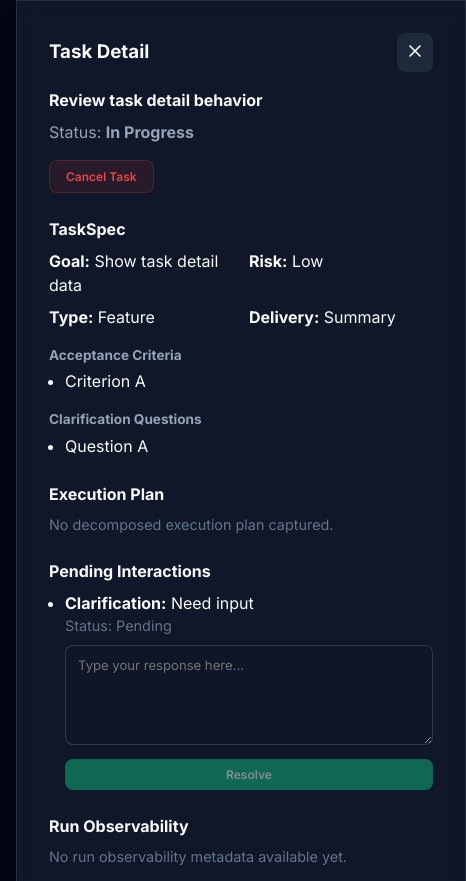
TaskDetailPanel › shows interaction resolve errors and recovers loading state
Type "Test answer" into the text box with placeholder "Type your response here...".
click(249, 695); type("Test answer")  # box [65,645,433,745]
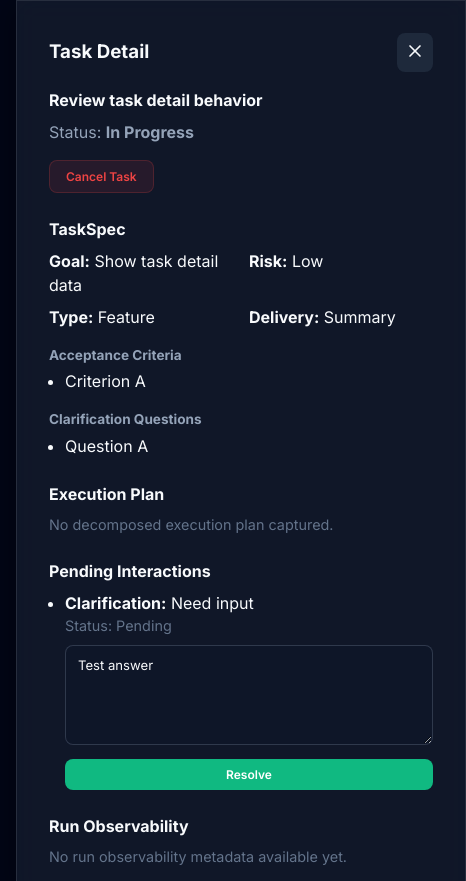
Click the button "Resolve".
click(249, 774)  # box [65,759,433,790]
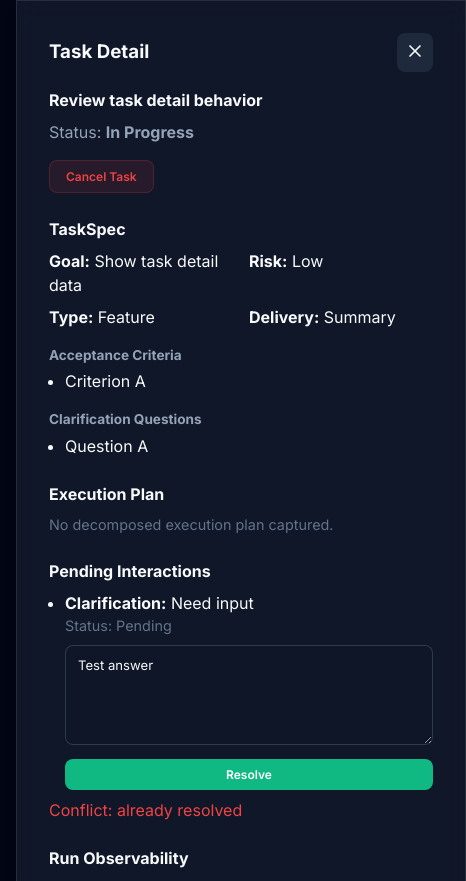
expect the button "Resolve" is enabled: met, box [65,759,433,790]
expect the text "Conflict: already resolved" is shown: met, box [49,800,242,820]
